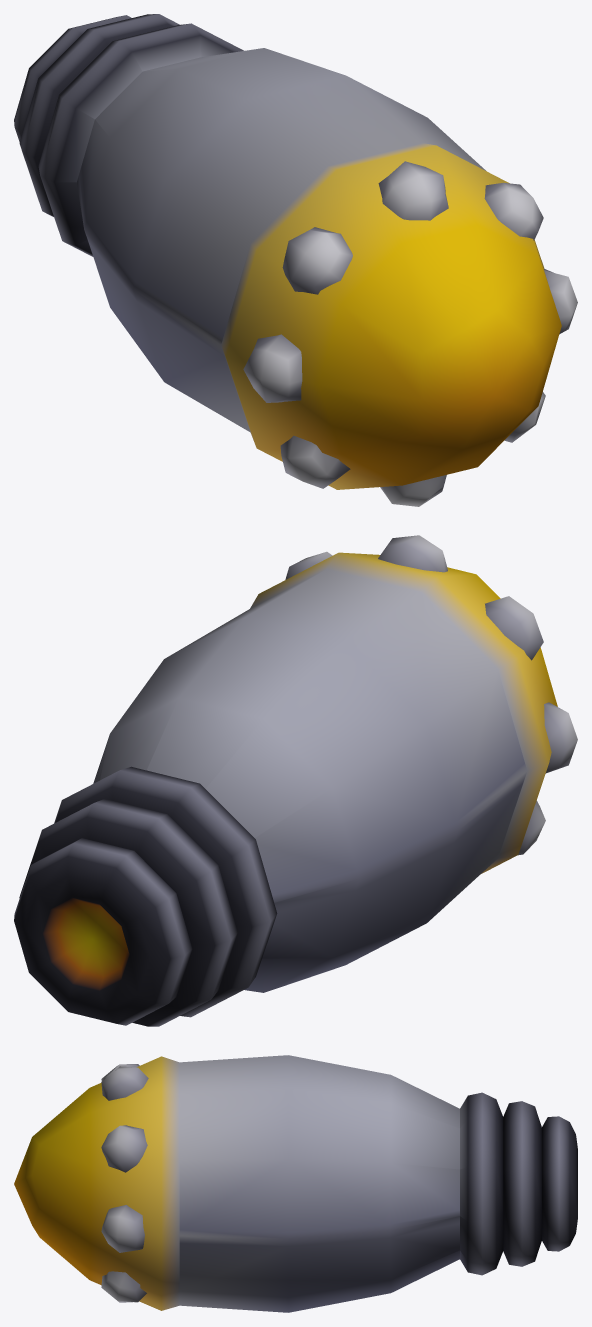
The model's file is rocket_13.glb.
The picture shows the model from 3 angles, top to bottom: view 1: azimuth 30°, elevation 25°; view 2: azimuth 150°, elevation 25°; view 3: azimuth 270°, elevation 25°; orthographic projection. The views are drawn at different scales.
Visible parts, largest first — view 1: rocket; view 2: rocket; view 3: rocket.
Part boxes in pixels (x1,y1,x2,y2): rocket: (14, 14, 577, 506); rocket: (14, 535, 577, 1026); rocket: (14, 1055, 577, 1312).
Size of the model in its own units: 0.3428 by 0.3391 by 0.7447.
